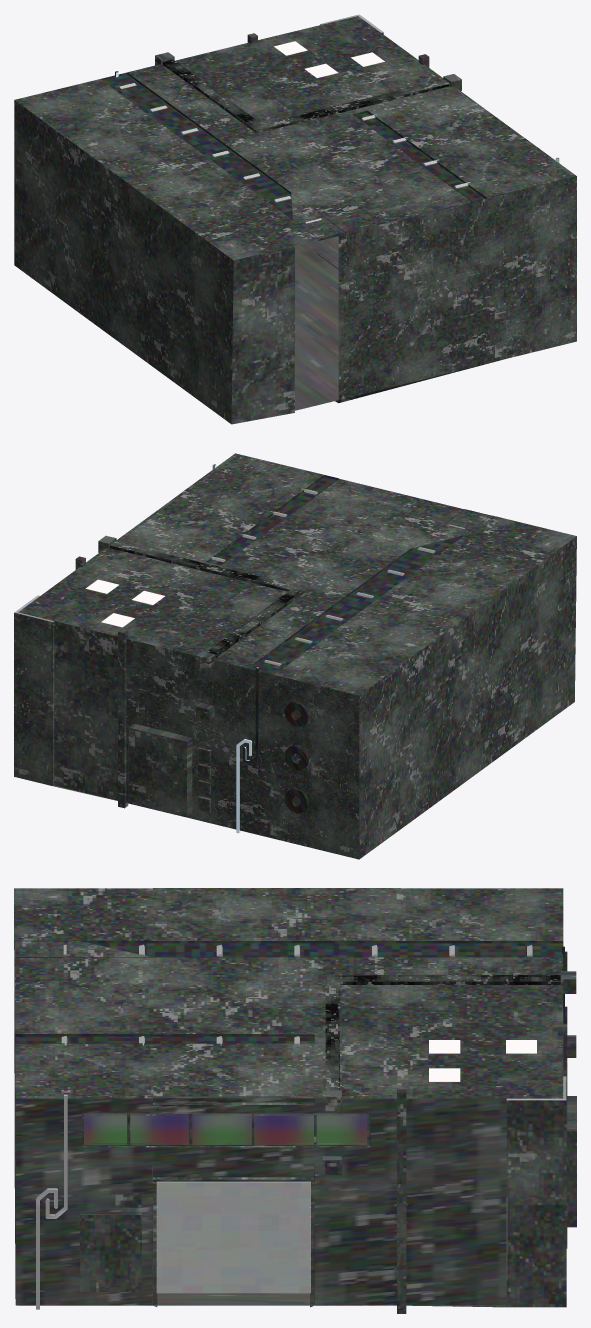
File: Garage.fbx
The picture shows the model from 3 angles, top to bottom: view 1: azimuth 30°, elevation 25°; view 2: azimuth 150°, elevation 25°; view 3: azimuth 270°, elevation 25°; orthographic projection. The views are drawn at different scales.
Visible parts, largest first — view 1: Plane_0, Plane.006_42, Cube.001_43, Cube.009_6; view 2: Plane_0, Plane.006_42, SDC_logo_1, Cube.001_43, Cube.009_6; view 3: Plane_0, Cube_15, Plane.003_4, Plane.006_42, SDC_logo_1, Cube.001_43, Cube.009_6.
Boxes of the visible parts, x1,y1,x2,y2 form: Plane_0: (14,14,576,424); Plane.006_42: (162,59,449,181); Cube.001_43: (274,41,384,78); Cube.009_6: (119,83,471,223); Plane_0: (14,453,576,859); Plane.006_42: (109,541,307,657); SDC_logo_1: (212,464,259,833); Cube.001_43: (85,579,164,627); Cube.009_6: (190,488,464,665); Plane_0: (14,888,576,1313); Cube_15: (156,1181,310,1293); Plane.003_4: (84,1113,367,1144); Plane.006_42: (325,975,560,1090); SDC_logo_1: (36,946,564,1309); Cube.001_43: (429,1040,536,1081); Cube.009_6: (61,944,532,1045).
Size of the model in its own units: 910 by 436 by 1008.
